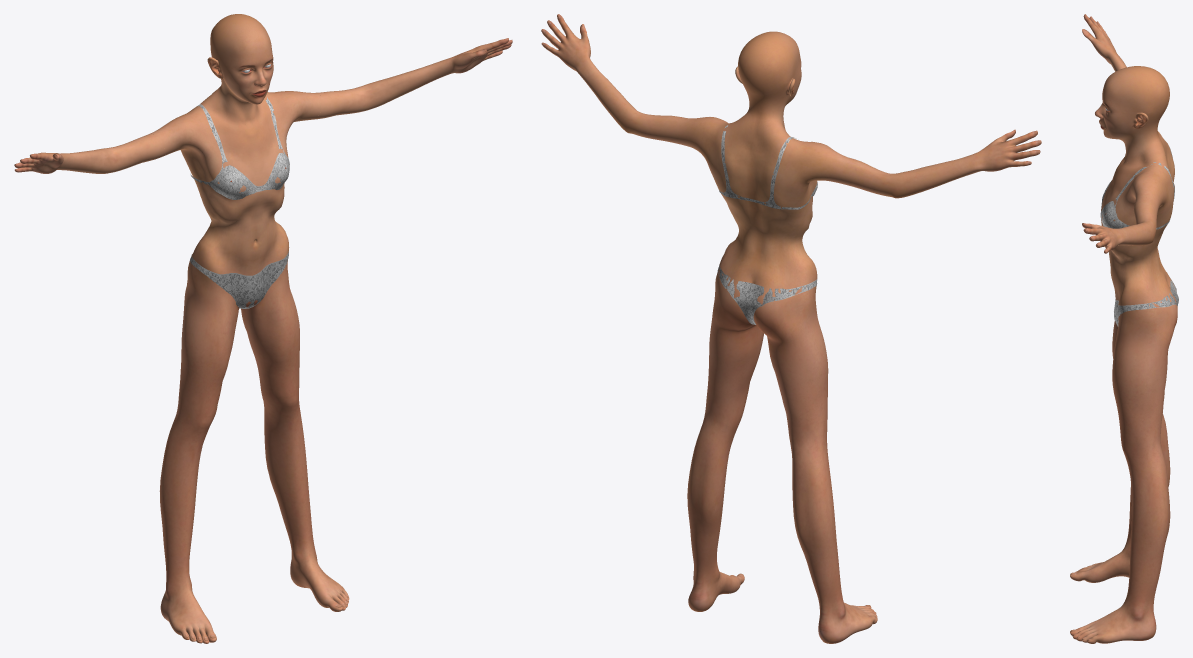
3 views of the same model, side by side, from view 1: azimuth 30°, elevation 25°; view 2: azimuth 150°, elevation 25°; view 3: azimuth 270°, elevation 25° (orthographic). The views are drawn at different scales.
Parts seen in each view (by area): view 1: cm_antonia, bra, panties; view 2: cm_antonia, panties, bra; view 3: cm_antonia, bra, panties.
Part boxes in pixels (bbox=[...]): cm_antonia: bbox=[14, 14, 512, 643]; bra: bbox=[190, 97, 289, 199]; panties: bbox=[190, 251, 288, 308]; cm_antonia: bbox=[541, 14, 1041, 643]; panties: bbox=[717, 264, 817, 324]; bra: bbox=[719, 123, 817, 209]; cm_antonia: bbox=[1070, 14, 1177, 643]; bra: bbox=[1100, 146, 1174, 229]; panties: bbox=[1114, 278, 1178, 326].
Bounding box in the file's own units: 1.55 × 1.74 × 0.3185.
Materials: 12 (9 with a texture image).
